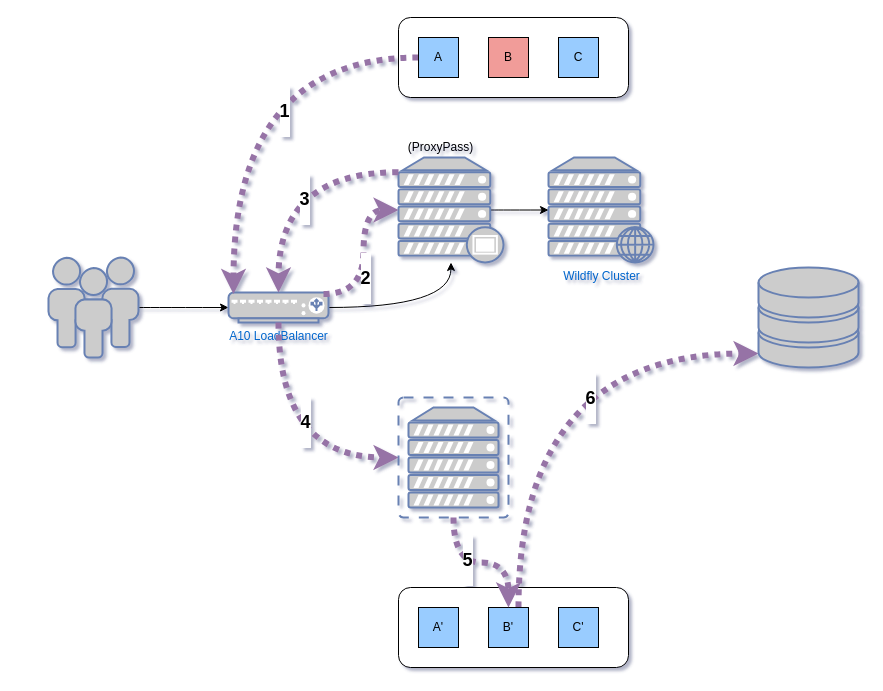
Some shapes in this 883 by 691 pixel diagram are drawn without their labels. Here are the shapes that lost their labels. From the top down, the centre of each, then its label:
the point at 450,209: HTTPD Cluster
the point at 93,307: Clients (human or otherwise)
the point at 808,317: PostgreSQL
the point at 453,457: Kubernetes Cluster
